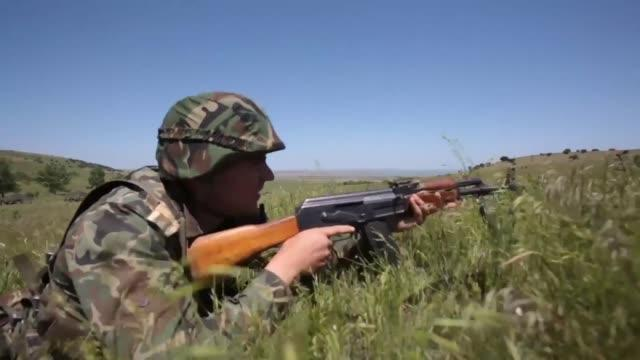larga: (186, 165, 527, 282)
